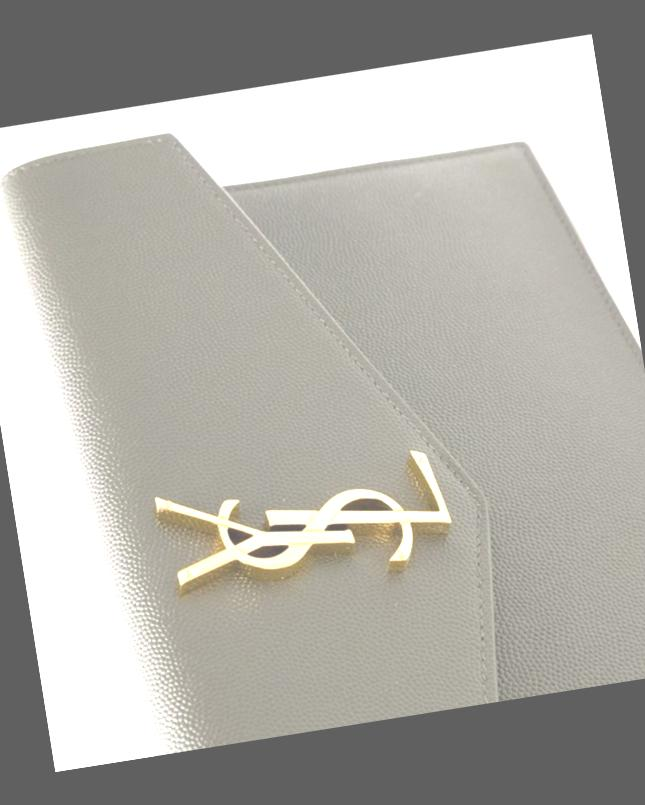YVES-SAINT-LAURENT: (152, 444, 456, 607)
